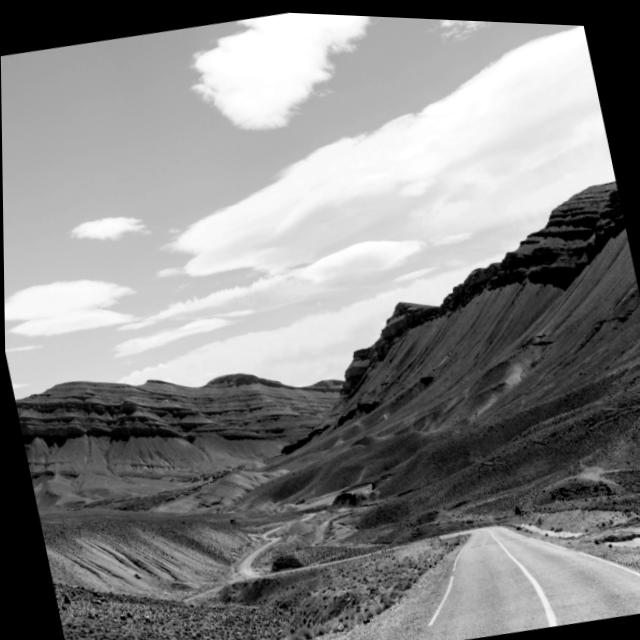cleat: (72, 366, 640, 640)
